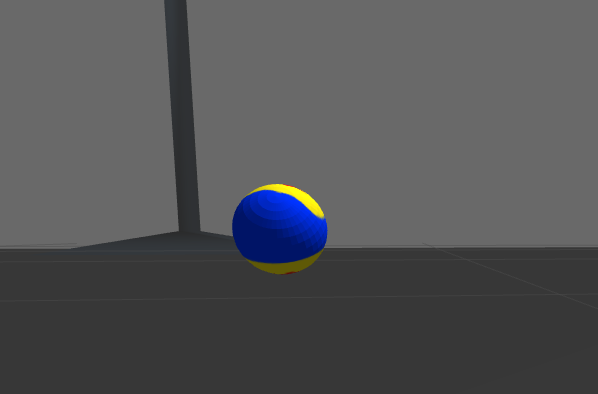toy story ball: (231, 183, 328, 276)
